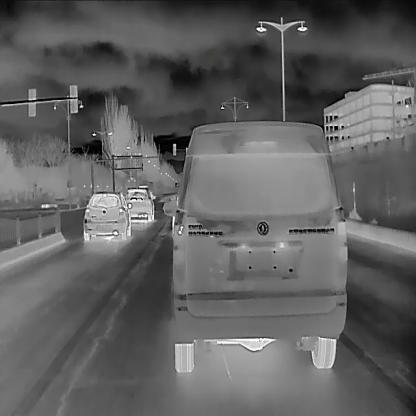car: (160, 119, 348, 373), (82, 191, 131, 241), (123, 186, 156, 222)
